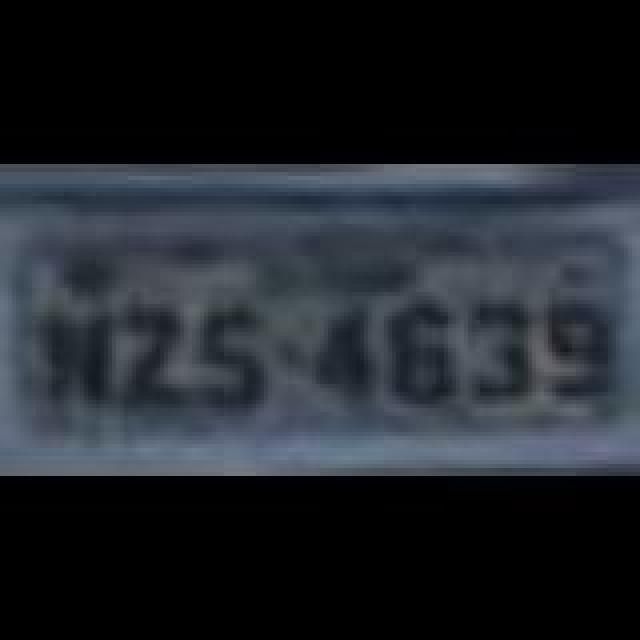3: (466, 294, 542, 410)
4: (304, 304, 376, 416)
6: (380, 302, 460, 418)
9: (540, 288, 620, 408)
N: (40, 312, 120, 416)
S: (194, 304, 270, 416)
Z: (122, 306, 198, 414)
